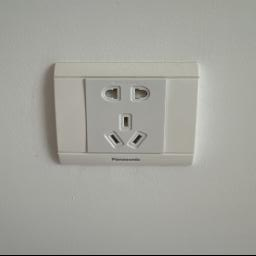outlet: (38, 54, 210, 186)
